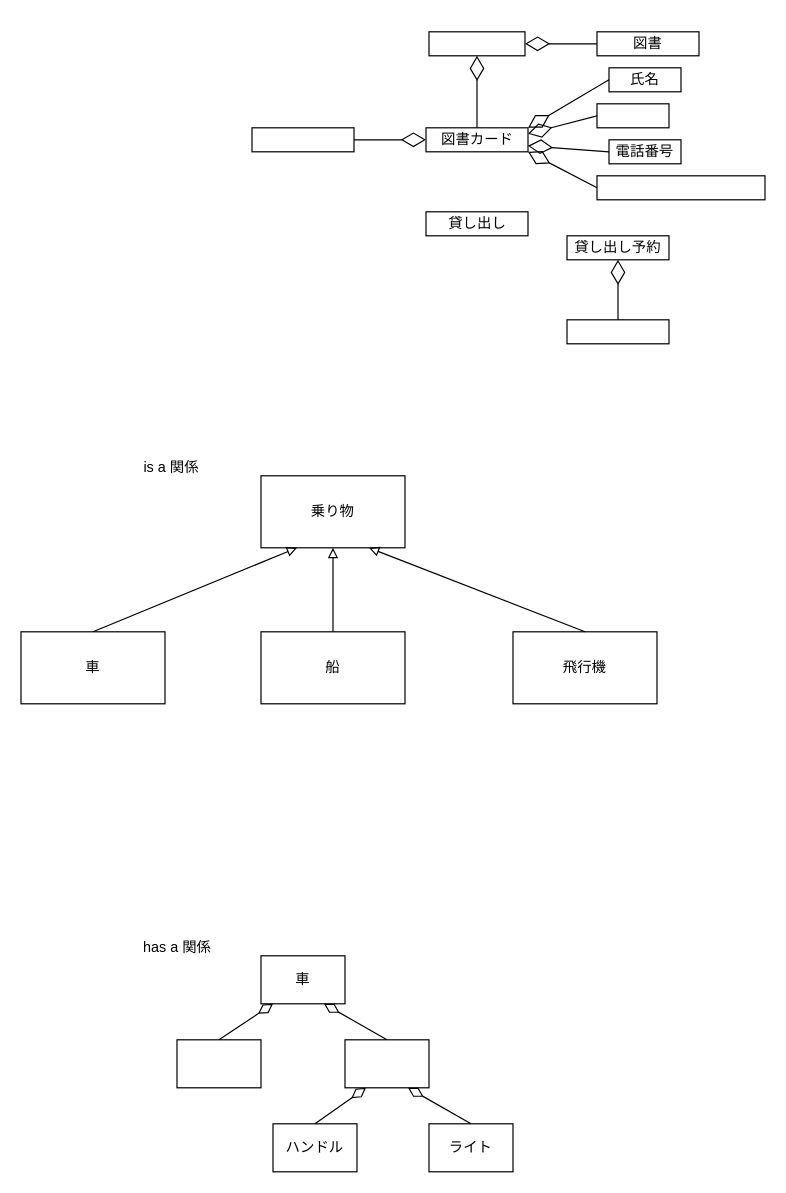
This 786x1193 diagram has some shape labels left out. Here are the shapes that lost their labels. From the top down, the centre of each, then its label:
At point (476, 43): "利用者".
At point (632, 115): "住所".
At point (302, 139): "ID".
At point (680, 187): "電子メール・アドレス".
At point (617, 331): "貸し出し期限".
At point (218, 1063): "エンジン".
At point (386, 1063): "ボディ".
